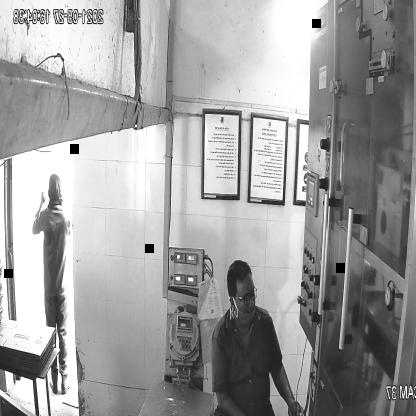goggles: (228, 286, 259, 311)
